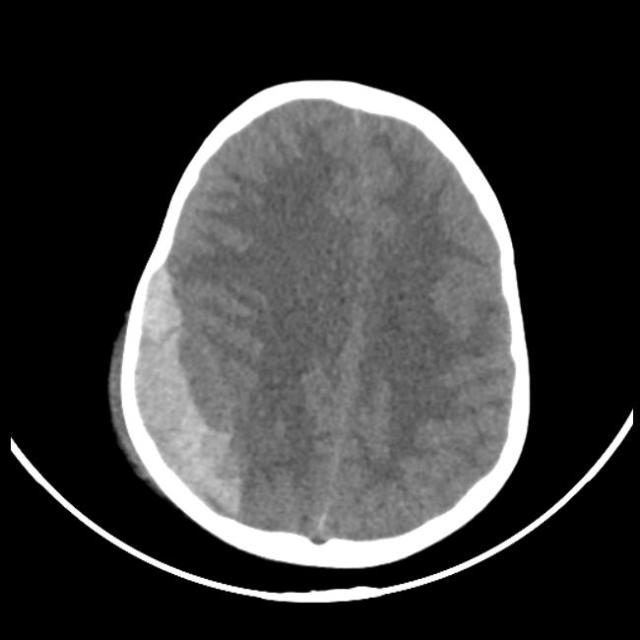lesion: (108, 79, 533, 552)
